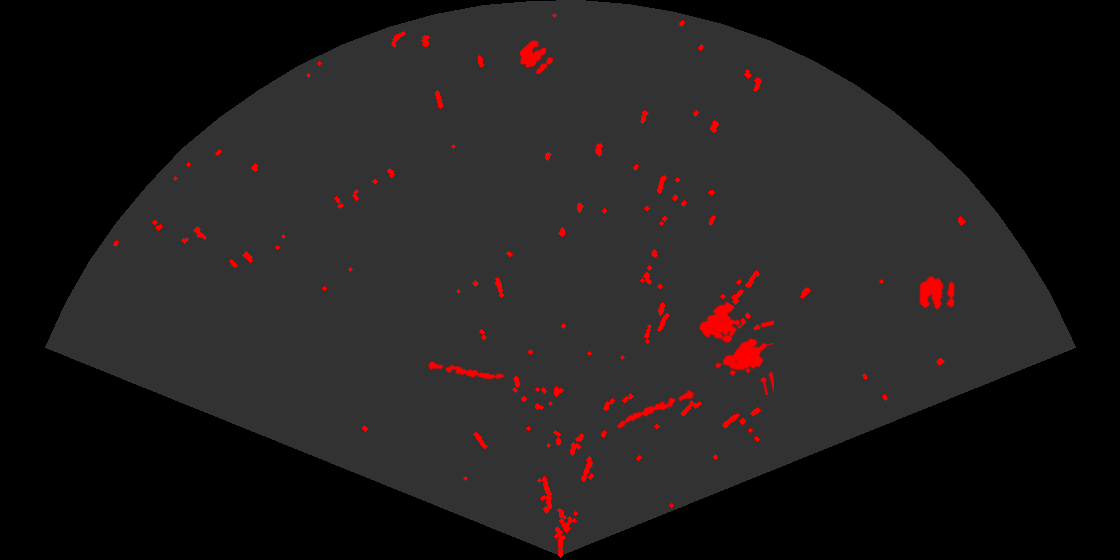ball: (918, 275, 956, 312), (518, 39, 555, 76)
cage: (698, 300, 774, 395)
chain: (615, 388, 697, 430), (424, 360, 506, 381)
